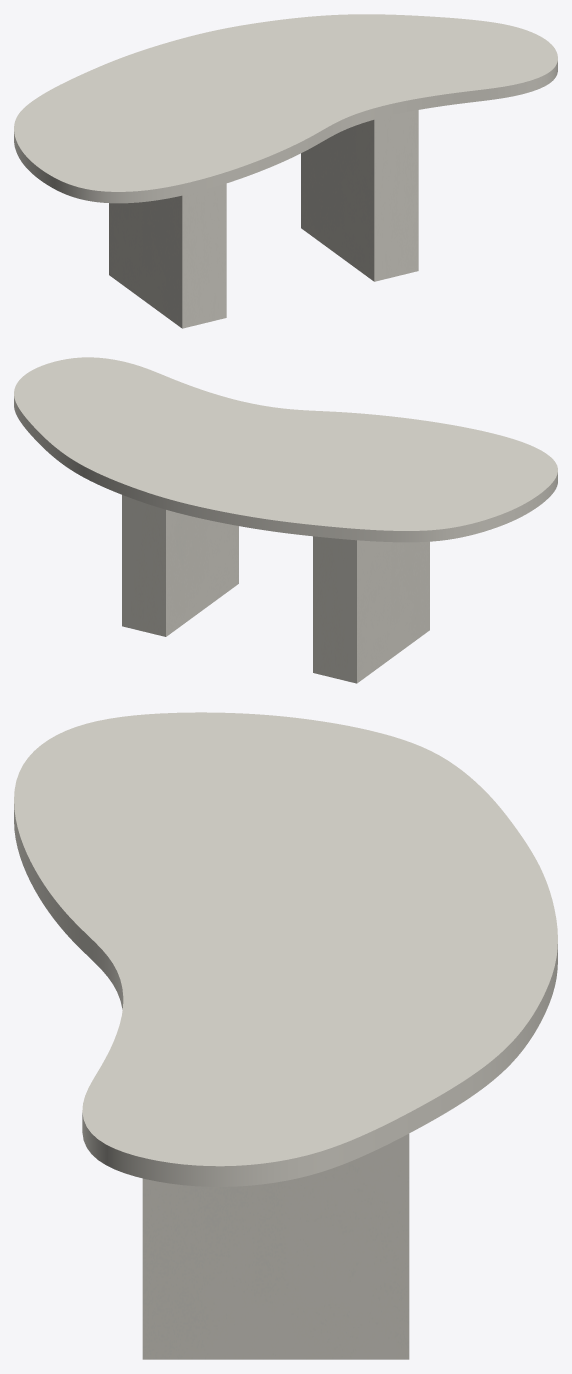
The model's file is pale_leaf1_standard_ridge.glb.
The picture shows the model from 3 angles, top to bottom: view 1: azimuth 30°, elevation 25°; view 2: azimuth 150°, elevation 25°; view 3: azimuth 270°, elevation 25°; orthographic projection. The views are drawn at different scales.
Visible parts, largest first — view 1: standard_leaf1, ridge; view 2: standard_leaf1, ridge; view 3: standard_leaf1, ridge.
Part boxes in pixels (x1,y1,x2,y2): standard_leaf1: (14, 14, 557, 203); ridge: (109, 110, 418, 328); standard_leaf1: (14, 357, 557, 542); ridge: (122, 495, 429, 683); standard_leaf1: (14, 712, 557, 1186); ridge: (142, 1134, 409, 1359).
Bounding box in the file's own units: 7.5 × 2.51 × 3.8.
Materials: 1 (1 with a texture image).
